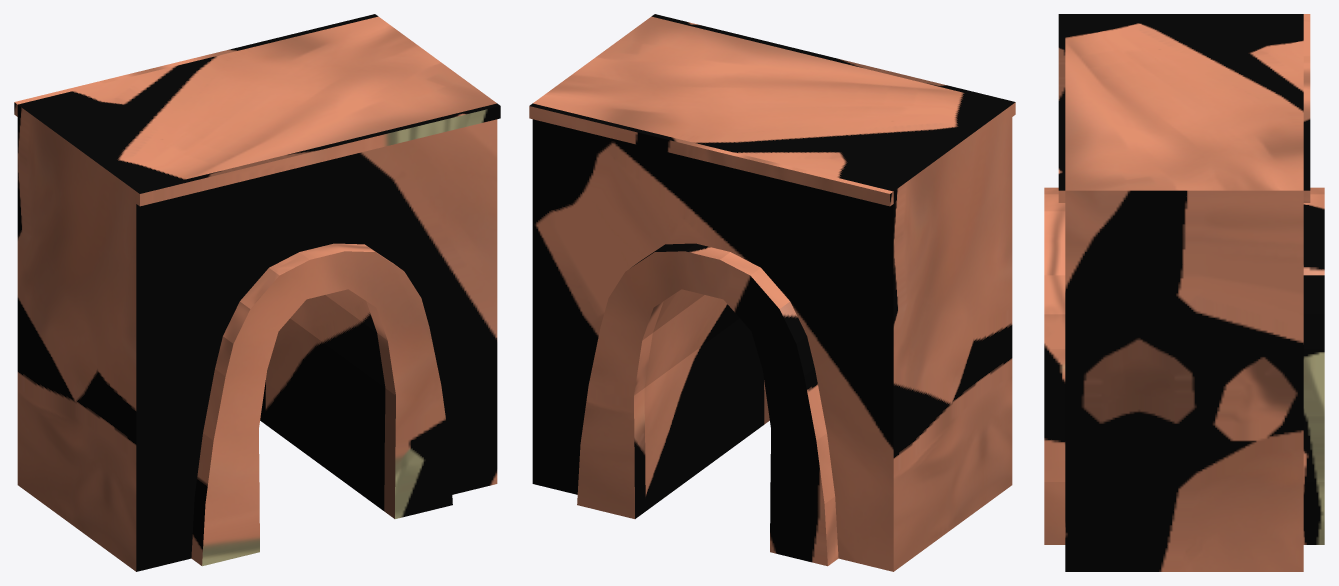
File: Gate_01.fbx
The picture shows the model from 3 angles, left to right: view 1: azimuth 30°, elevation 25°; view 2: azimuth 150°, elevation 25°; view 3: azimuth 270°, elevation 25°; orthographic projection.
Parts seen in each view (by area): view 1: Gate_01; view 2: Gate_01; view 3: Gate_01.
Boxes of the visible parts, x1,y1,x2,y2 form: Gate_01: (14,14,500,571); Gate_01: (529,14,1015,571); Gate_01: (1044,14,1324,571).
Size of the model in its own units: 2.52 by 2.54 by 1.69.
